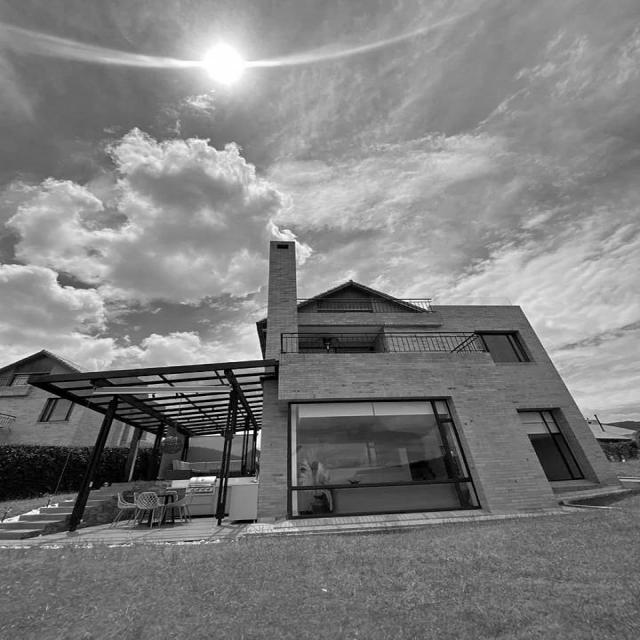Fachada: (30, 240, 620, 529), (1, 349, 100, 445), (588, 421, 636, 443), (110, 423, 131, 445)
